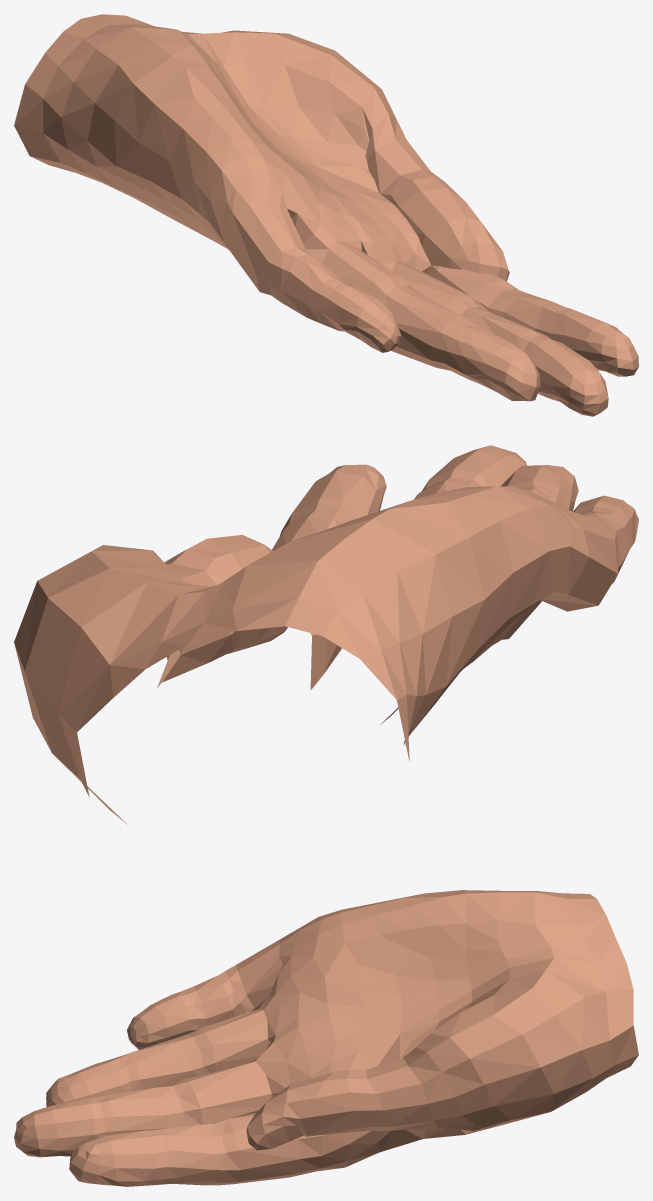
File: frame_049.glb
The picture shows the model from 3 angles, top to bottom: view 1: azimuth 30°, elevation 25°; view 2: azimuth 150°, elevation 25°; view 3: azimuth 270°, elevation 25°; orthographic projection. The views are drawn at different scales.
Visible parts, largest first — view 1: world; view 2: world; view 3: world.
Boxes of the visible parts, bbox=[...] form: world: bbox=[14, 14, 638, 416]; world: bbox=[14, 445, 638, 824]; world: bbox=[14, 890, 638, 1186].
Bounding box in the file's own units: 0.0919 × 0.0618 × 0.1674.
